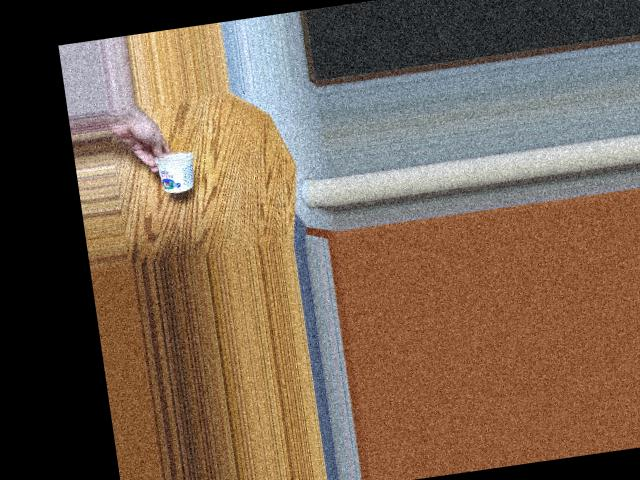cotage: (151, 148, 202, 193)
